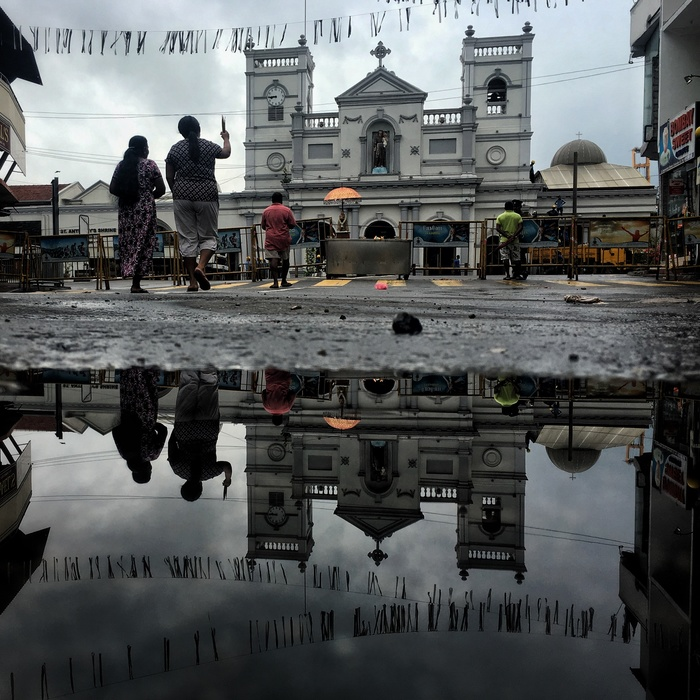Church: (228, 21, 538, 225)
